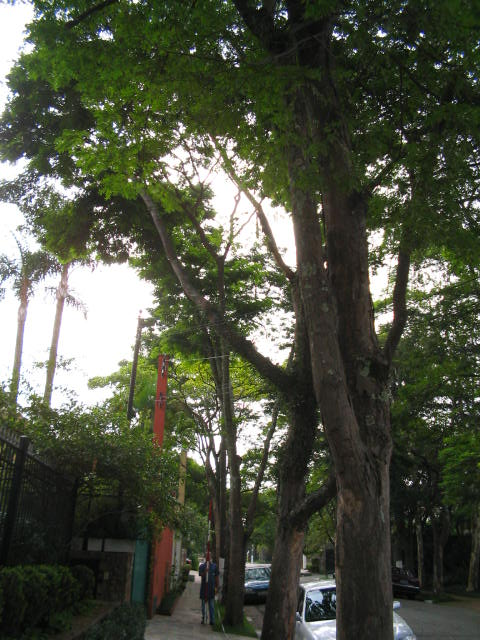crown: (3, 1, 472, 280)
stem: (328, 516, 416, 639), (259, 520, 317, 638), (217, 539, 252, 626)
stick: (198, 500, 222, 626)
tree: (3, 1, 477, 638)
